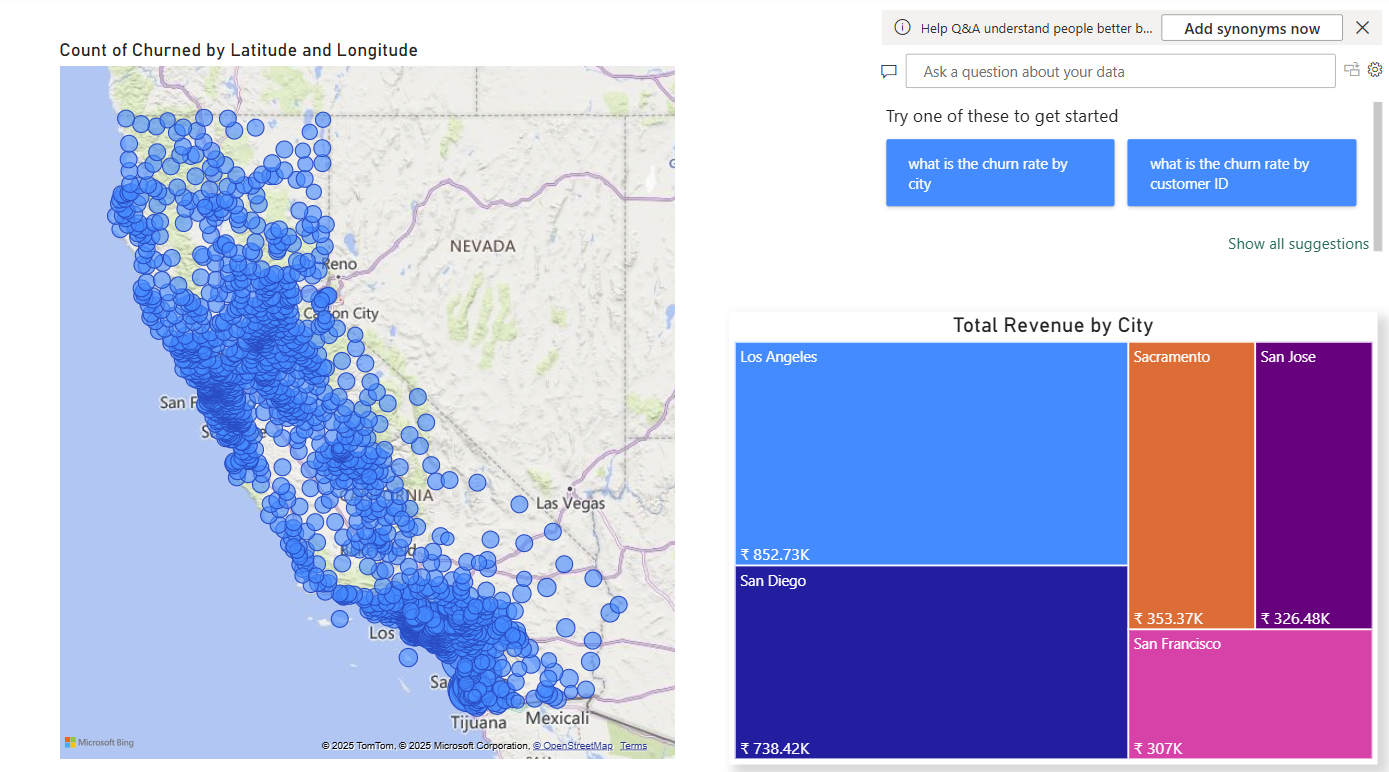

The page's visual inventory and layout, read from the dashboard file:
{"tool":"powerbi","page":{"name":"MAP ANALYSIS","canvas":[1280,720],"ordinal":1},"visuals":[{"type":"treemap","title":"Total Revenue by City","fields":{"Group":["Customer Churn.City"],"Values":["Sum(Customer Churn.Total Revenue)"]},"box":[672.8,291,593.4,413.9],"z":0},{"type":"map","fields":{"Y":["Customer Churn.Latitude"],"X":["Customer Churn.Longitude"],"Size":["CountNonNull(Customer Churn.Churned)"]},"box":[54.8,41.6,572.6,663.3],"z":1000},{"type":"qnaVisual","box":[803.2,1.9,476.2,249.5],"z":2000}]}

Visuals, with their boxes on the page's 1280x720 design canvas (x1, y1, x2, y2). These are canvas units, not pixel positions in the 1389x772 screenshot, which may show the page scaled, cropped or inside an application window:
"Total Revenue by City" treemap: <bbox>673, 291, 1266, 705</bbox>
map - Customer Churn.Latitude x Customer Churn.Longitude: <bbox>55, 42, 627, 705</bbox>
qnaVisual: <bbox>803, 2, 1279, 251</bbox>
